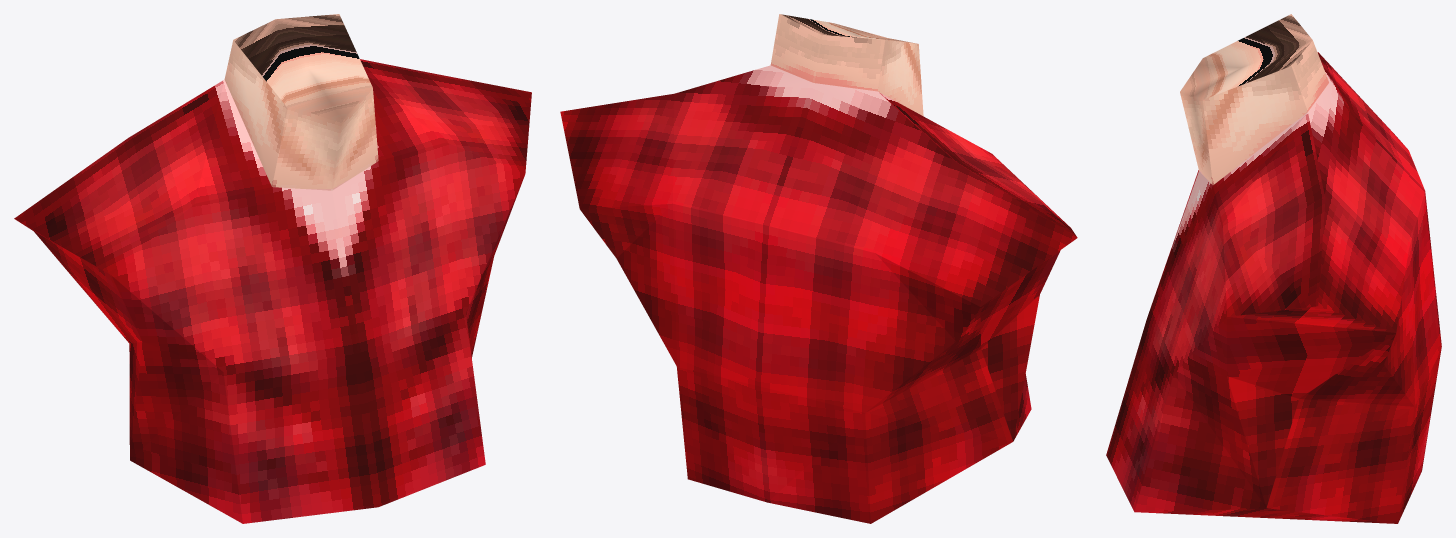
File: bro_body.glb
3 views of the same model, side by side, from view 1: azimuth 30°, elevation 25°; view 2: azimuth 150°, elevation 25°; view 3: azimuth 270°, elevation 25° (orthographic).
Visible parts, largest first — view 1: Bro.016; view 2: Bro.016; view 3: Bro.016.
Boxes of the visible parts, <box> form: Bro.016: <box>14,14,531,523</box>; Bro.016: <box>560,14,1077,523</box>; Bro.016: <box>1106,14,1441,523</box>.
Bounding box in the file's own units: 0.9178 × 0.7391 × 0.5123.
1 material, 1 textured.
